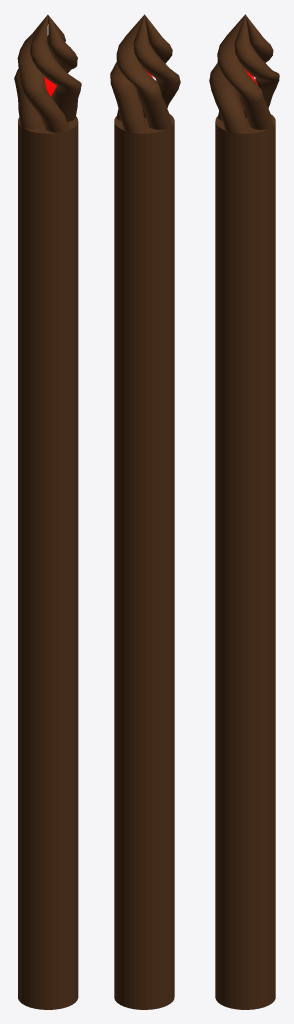
File: staff.fbx
3 views of the same model, side by side, from view 1: azimuth 30°, elevation 25°; view 2: azimuth 150°, elevation 25°; view 3: azimuth 330°, elevation 25° (orthographic).
Parts seen in each view (by area): view 1: Cylinder, BezierCurve; view 2: Cylinder, BezierCurve; view 3: Cylinder, BezierCurve.
Part boxes in pixels (x1=…): Cylinder: x1=18, y1=116, x2=78, y2=1009; BezierCurve: x1=14, y1=14, x2=81, y2=132; Cylinder: x1=114, y1=108, x2=174, y2=1009; BezierCurve: x1=110, y1=14, x2=180, y2=132; Cylinder: x1=215, y1=108, x2=275, y2=1009; BezierCurve: x1=209, y1=14, x2=279, y2=132.
Size of the model in its own units: 110 by 1795 by 100.
